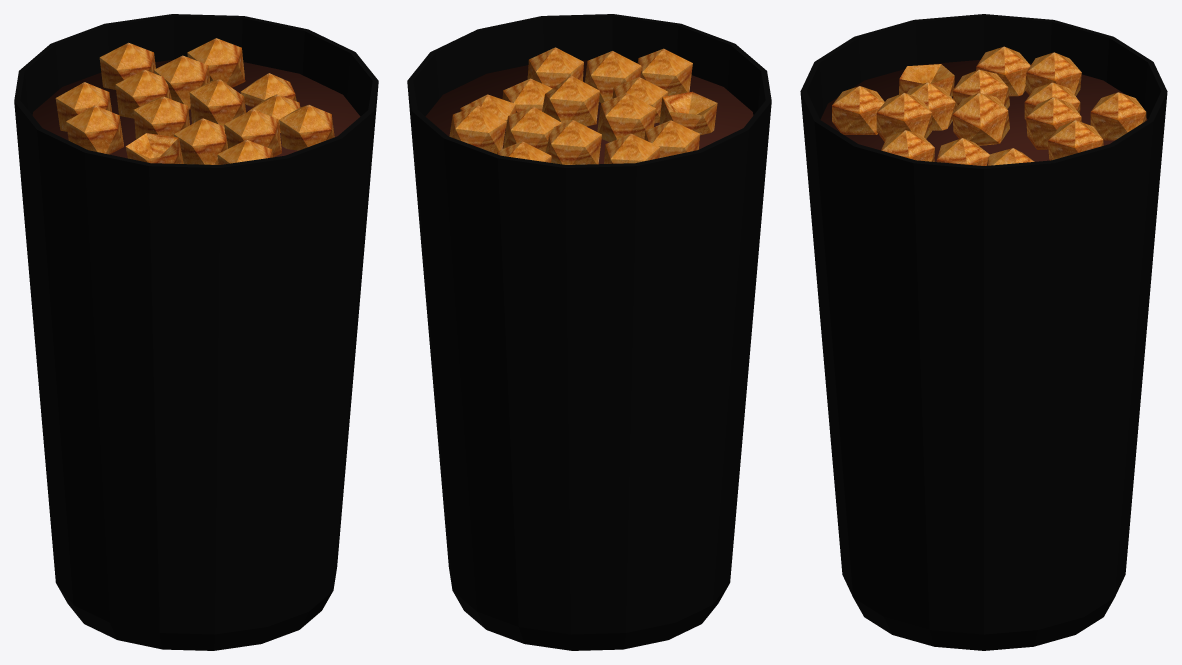
File: Glass(cola&nut).fbx
3 renders of one model, left to right at view 1: azimuth 30°, elevation 25°; view 2: azimuth 150°, elevation 25°; view 3: azimuth 270°, elevation 25°, orthographic.
Visible parts, largest first — view 1: Glass(empty), nuts, cola; view 2: Glass(empty), nuts, cola; view 3: Glass(empty), nuts, cola.
Boxes of the visible parts, x1=… form: Glass(empty): x1=14, y1=14, x2=378, y2=650; nuts: x1=55, y1=38, x2=334, y2=164; cola: x1=32, y1=59, x2=360, y2=158; Glass(empty): x1=407, y1=14, x2=771, y2=650; nuts: x1=449, y1=47, x2=717, y2=164; cola: x1=425, y1=60, x2=753, y2=163; Glass(empty): x1=800, y1=14, x2=1167, y2=650; nuts: x1=832, y1=46, x2=1146, y2=165; cola: x1=820, y1=60, x2=1147, y2=161.
Size of the model in its own units: 60.03 by 93.69 by 60.03.
3 materials, 1 textured.
